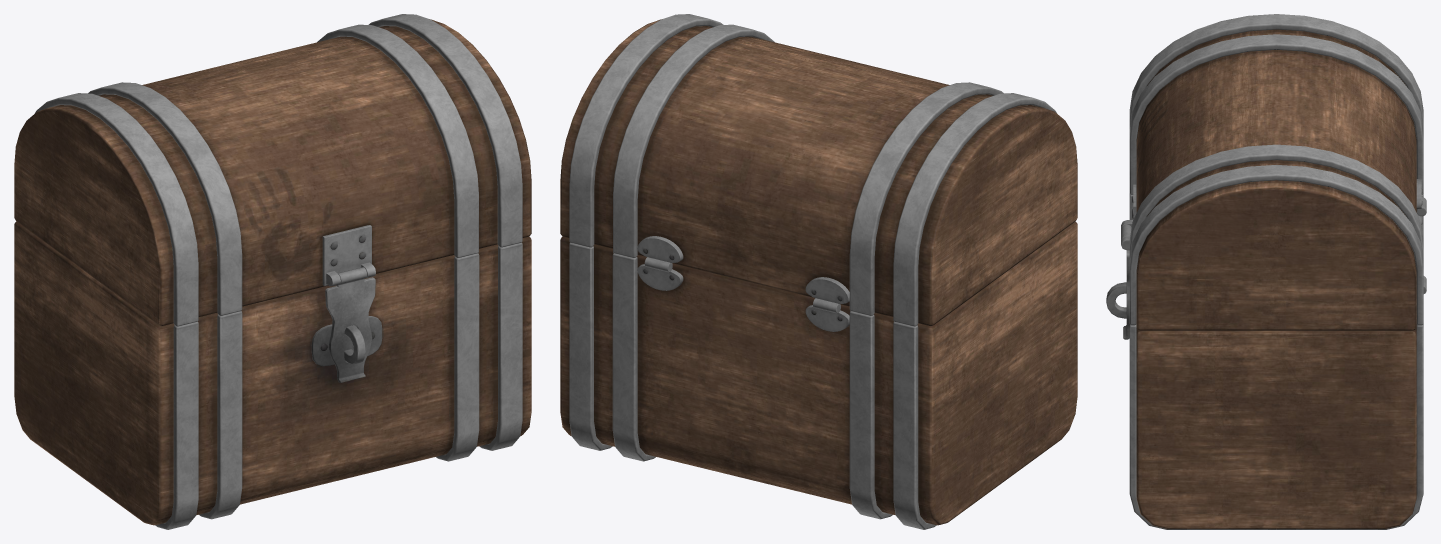
File: chest_01.glb
3 views of the same model, side by side, from view 1: azimuth 30°, elevation 25°; view 2: azimuth 150°, elevation 25°; view 3: azimuth 270°, elevation 25° (orthographic). The views are drawn at different scales.
Parts seen in each view (by area): view 1: ridge_part4_lambert1_0; view 2: ridge_part4_lambert1_0; view 3: ridge_part4_lambert1_0.
Boxes of the visible parts, x1,y1,x2,y2 form: ridge_part4_lambert1_0: (14, 14, 531, 529); ridge_part4_lambert1_0: (560, 14, 1077, 529); ridge_part4_lambert1_0: (1106, 14, 1426, 529).
Size of the model in its own units: 1 by 0.9555 by 0.7798.
Materials: 1 (1 with a texture image).
